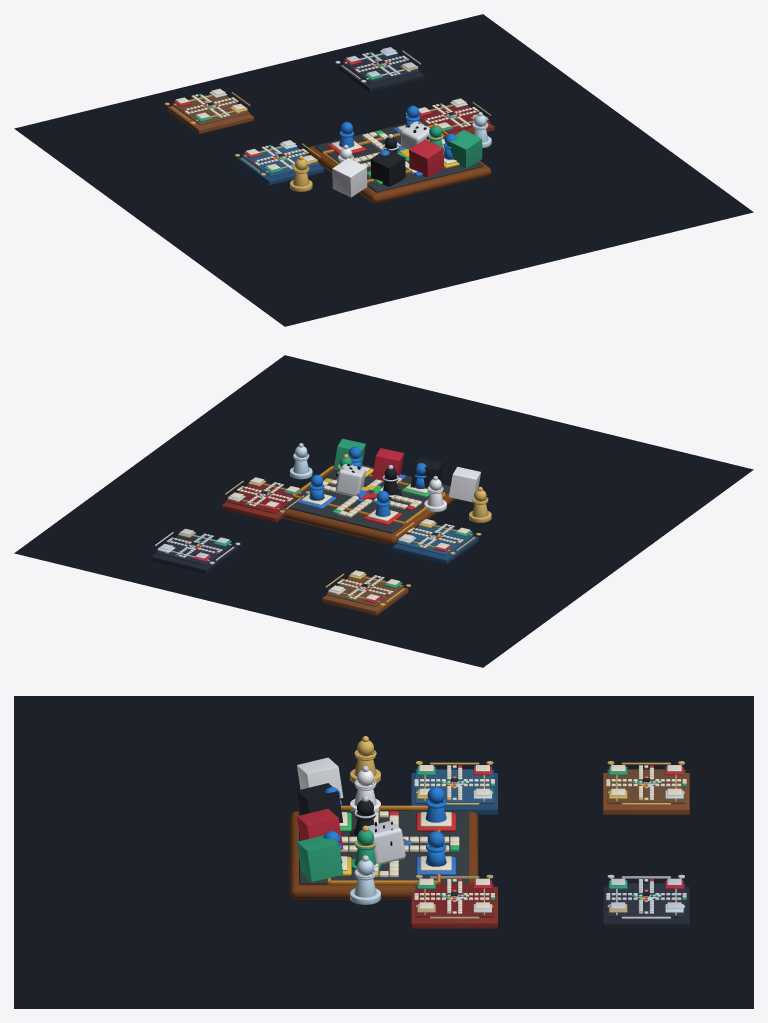
The model's file is ludomada-gameplay-market-v6.glb.
3 renders of one model, top to bottom at view 1: azimuth 30°, elevation 25°; view 2: azimuth 150°, elevation 25°; view 3: azimuth 270°, elevation 25°, orthographic. The views are drawn at different scales.
Visible parts, largest first — view 1: LM_Studio_Ground, LM_MARKET_BOARD_OBSIDIAN, LM_MARKET_BOARD_ROYAL, LM_MARKET_BOARD_SAPPHIRE, LM_Table_Deep_Base, LM_Board_Recessed_Surface, LM_MARKET_BOARD_RUBY, LM_MARKET_DIE_MERCURY, LM_MARKET_DIE_RUBY, LM_MARKET_DIE_OBSIDIAN, LM_MARKET_DIE_EMERALD, LM_Die_HydroChrome_Body; view 2: LM_Studio_Ground, LM_MARKET_BOARD_SAPPHIRE, LM_MARKET_BOARD_OBSIDIAN, LM_MARKET_BOARD_ROYAL, LM_Board_Recessed_Surface, LM_MARKET_BOARD_RUBY, LM_Table_Deep_Base, LM_MARKET_DIE_MERCURY, LM_Die_HydroChrome_Body, LM_MARKET_DIE_RUBY, LM_MARKET_DIE_OBSIDIAN; view 3: LM_Studio_Ground, LM_MARKET_BOARD_OBSIDIAN, LM_MARKET_BOARD_ROYAL, LM_MARKET_BOARD_RUBY, LM_MARKET_BOARD_SAPPHIRE, LM_Board_Recessed_Surface, LM_Table_Deep_Base, LM_MARKET_DIE_EMERALD, LM_Die_HydroChrome_Body, LM_MARKET_DIE_MERCURY, LM_MARKET_DIE_OBSIDIAN, LM_MARKET_DIE_RUBY (+4 smaller).
Boxes of the visible parts, x1=… form: LM_Studio_Ground: x1=14, y1=14, x2=753, y2=326; LM_MARKET_BOARD_OBSIDIAN: x1=338, y1=47, x2=424, y2=92; LM_MARKET_BOARD_ROYAL: x1=167, y1=88, x2=253, y2=133; LM_MARKET_BOARD_SAPPHIRE: x1=237, y1=140, x2=323, y2=185; LM_Table_Deep_Base: x1=306, y1=134, x2=491, y2=203; LM_Board_Recessed_Surface: x1=314, y1=120, x2=483, y2=192; LM_MARKET_BOARD_RUBY: x1=418, y1=98, x2=494, y2=135; LM_MARKET_DIE_MERCURY: x1=332, y1=158, x2=367, y2=197; LM_MARKET_DIE_RUBY: x1=409, y1=139, x2=443, y2=177; LM_MARKET_DIE_OBSIDIAN: x1=370, y1=148, x2=405, y2=186; LM_MARKET_DIE_EMERALD: x1=447, y1=130, x2=482, y2=167; LM_Die_HydroChrome_Body: x1=401, y1=121, x2=431, y2=149; LM_Studio_Ground: x1=14, y1=355, x2=753, y2=667; LM_MARKET_BOARD_SAPPHIRE: x1=392, y1=519, x2=478, y2=564; LM_MARKET_BOARD_OBSIDIAN: x1=151, y1=528, x2=237, y2=573; LM_MARKET_BOARD_ROYAL: x1=322, y1=570, x2=408, y2=615; LM_Board_Recessed_Surface: x1=284, y1=464, x2=450, y2=533; LM_MARKET_BOARD_RUBY: x1=221, y1=477, x2=304, y2=522; LM_Table_Deep_Base: x1=278, y1=469, x2=455, y2=544; LM_MARKET_DIE_MERCURY: x1=449, y1=466, x2=480, y2=502; LM_Die_HydroChrome_Body: x1=335, y1=464, x2=365, y2=496; LM_MARKET_DIE_RUBY: x1=372, y1=448, x2=404, y2=480; LM_MARKET_DIE_OBSIDIAN: x1=410, y1=457, x2=442, y2=488; LM_Studio_Ground: x1=14, y1=696, x2=753, y2=1008; LM_MARKET_BOARD_OBSIDIAN: x1=603, y1=876, x2=689, y2=928; LM_MARKET_BOARD_ROYAL: x1=603, y1=762, x2=689, y2=814; LM_MARKET_BOARD_RUBY: x1=411, y1=876, x2=497, y2=928; LM_MARKET_BOARD_SAPPHIRE: x1=411, y1=762, x2=497, y2=814; LM_Board_Recessed_Surface: x1=299, y1=811, x2=468, y2=884; LM_Table_Deep_Base: x1=289, y1=811, x2=478, y2=899; LM_MARKET_DIE_EMERALD: x1=297, y1=835, x2=343, y2=882; LM_Die_HydroChrome_Body: x1=368, y1=821, x2=405, y2=864; LM_MARKET_DIE_MERCURY: x1=297, y1=757, x2=343, y2=798; LM_MARKET_DIE_OBSIDIAN: x1=297, y1=783, x2=343, y2=822; LM_MARKET_DIE_RUBY: x1=297, y1=808, x2=343, y2=849.
Bounding box in the file's own units: 22 × 1.85 × 22.
